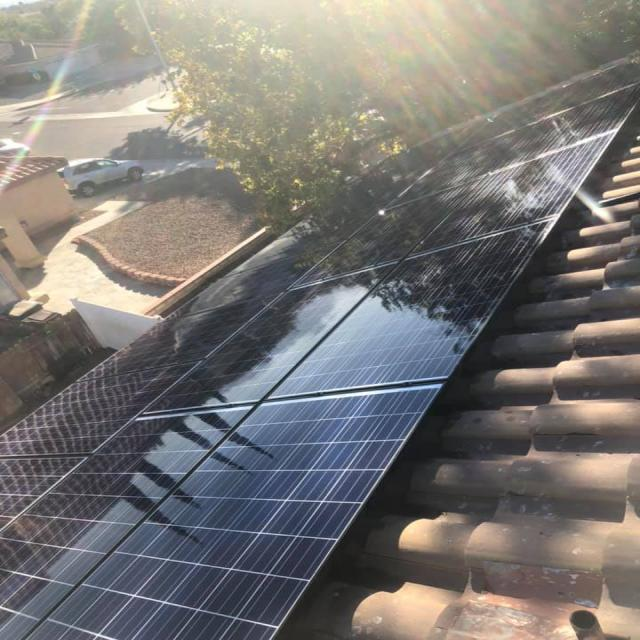clean-solar-panel: (2, 60, 638, 640)
